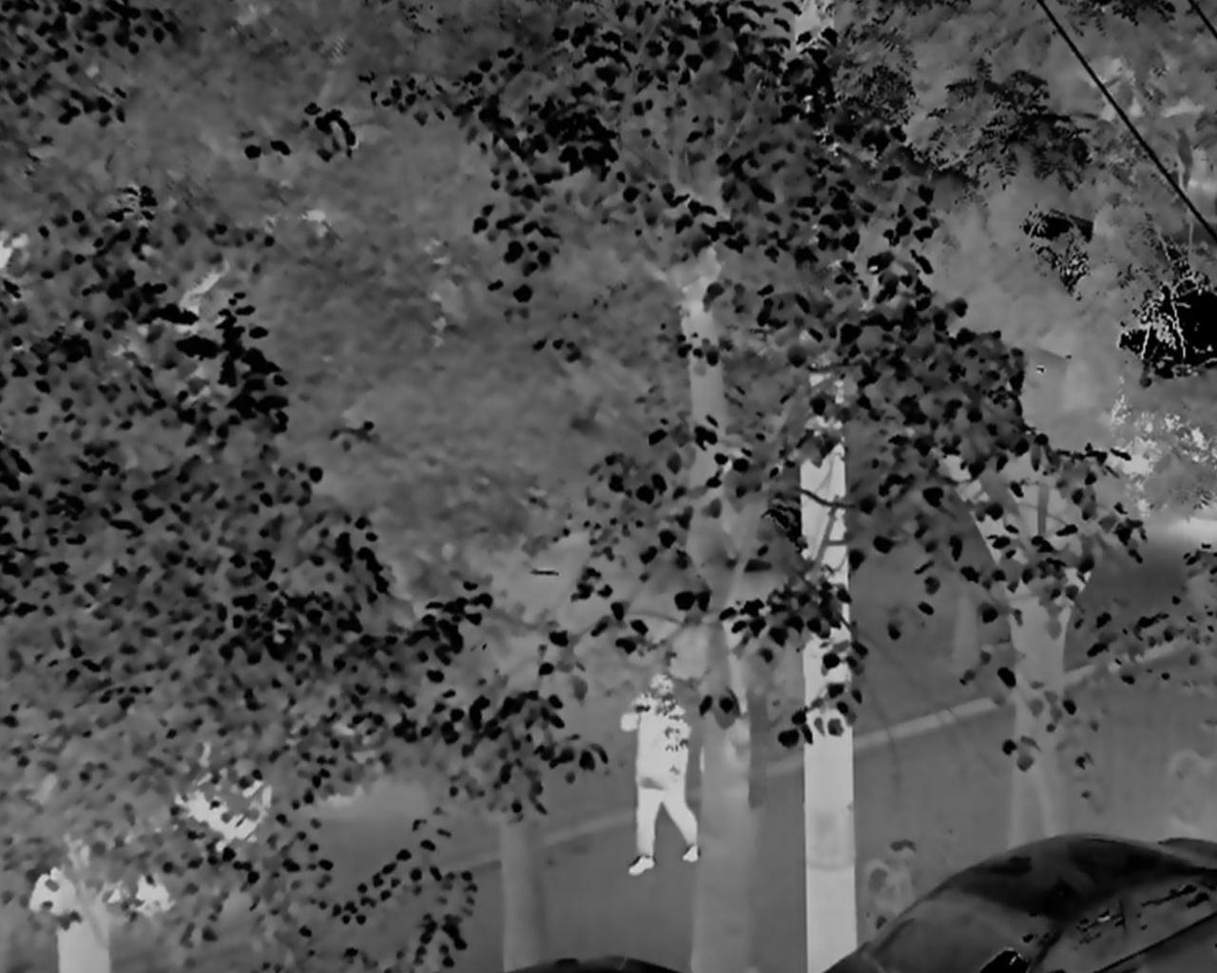person: (621, 668, 700, 876)
